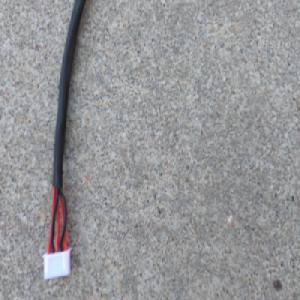Wire: (41, 0, 87, 282)
